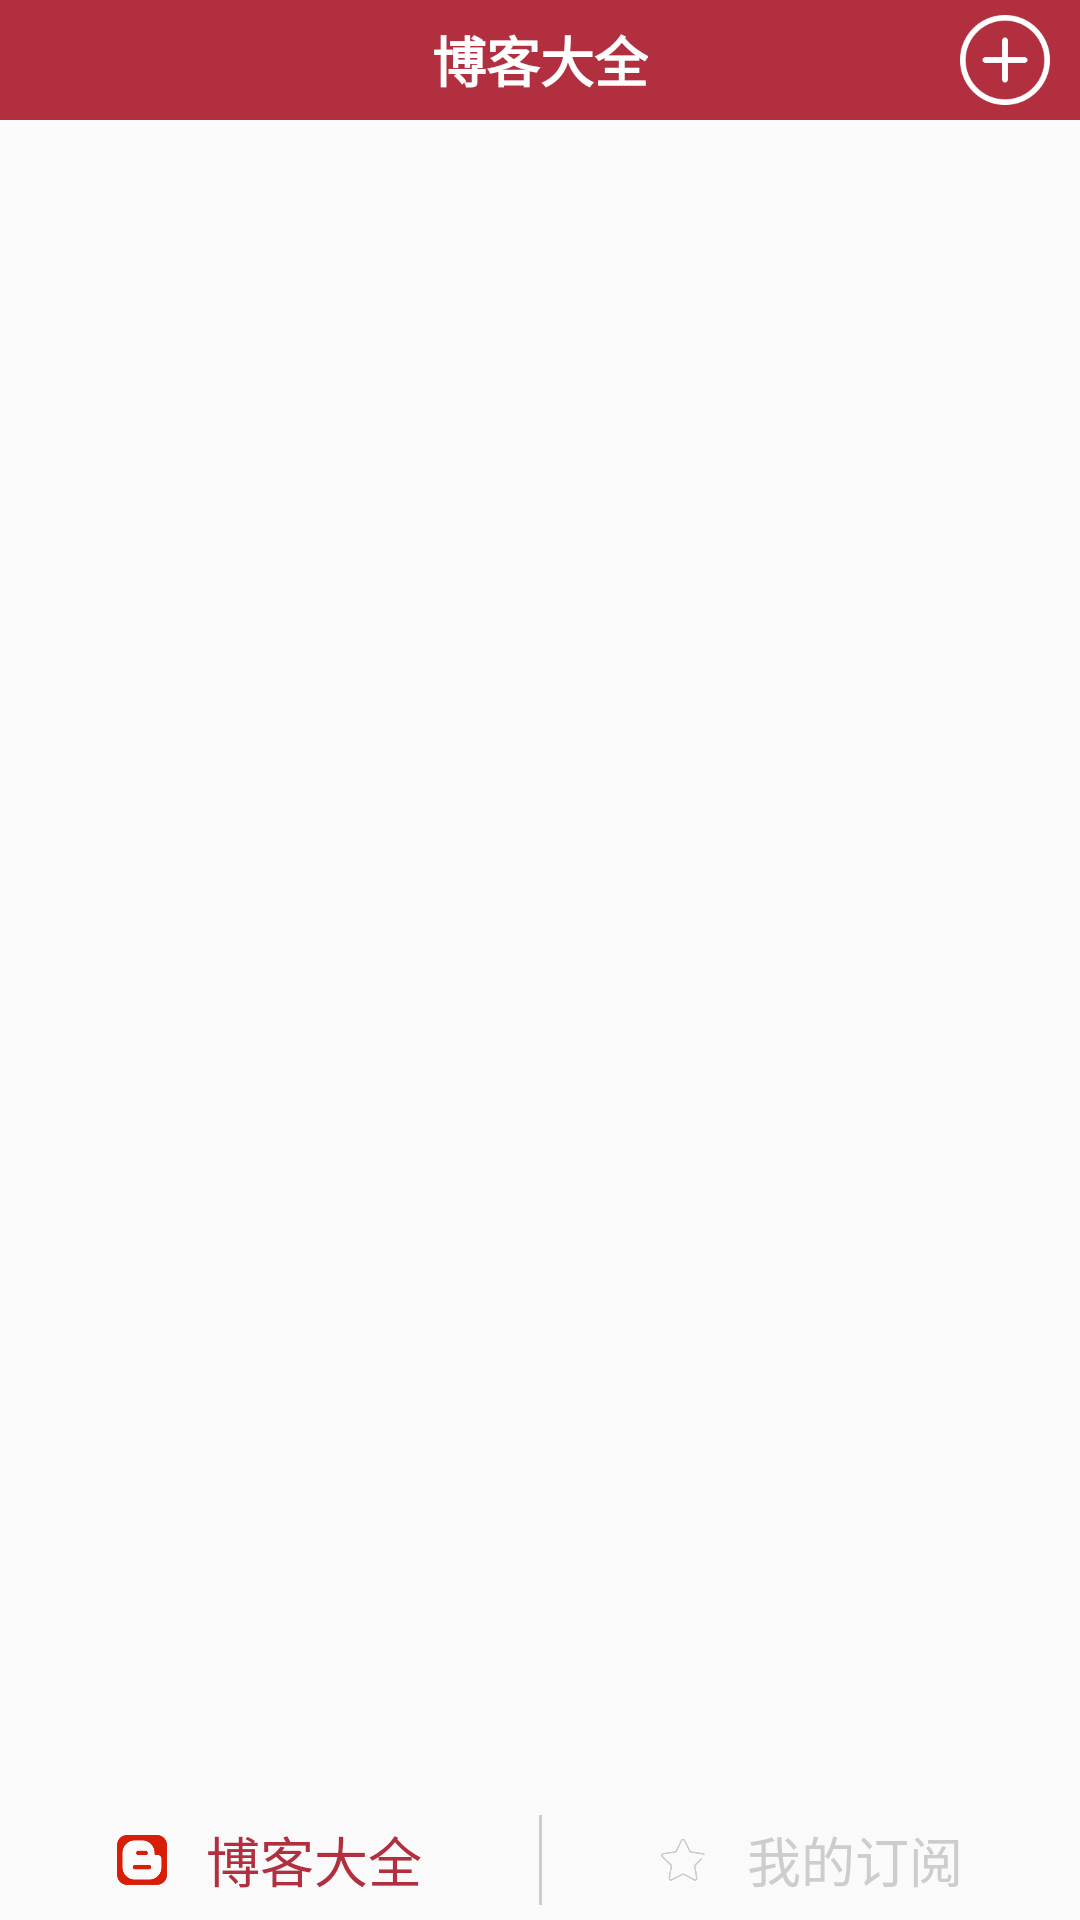

Where icons sit on this 1080x1920 app screen, as (x1, y1, x2, y2):
add: (960, 15, 1050, 105)
